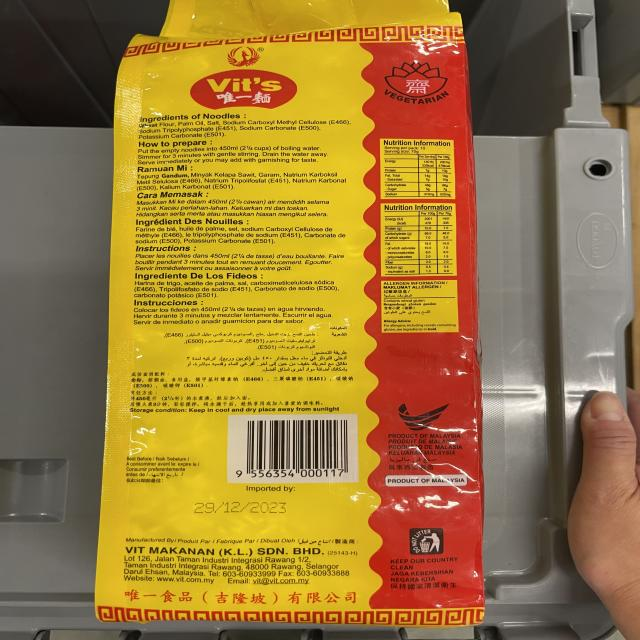object_name: (131, 21, 468, 616)
